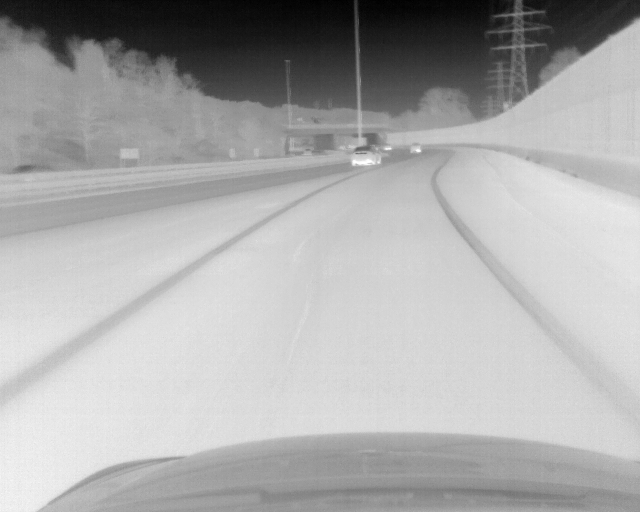car: (349, 146, 383, 166), (409, 142, 422, 154), (382, 143, 393, 151)
